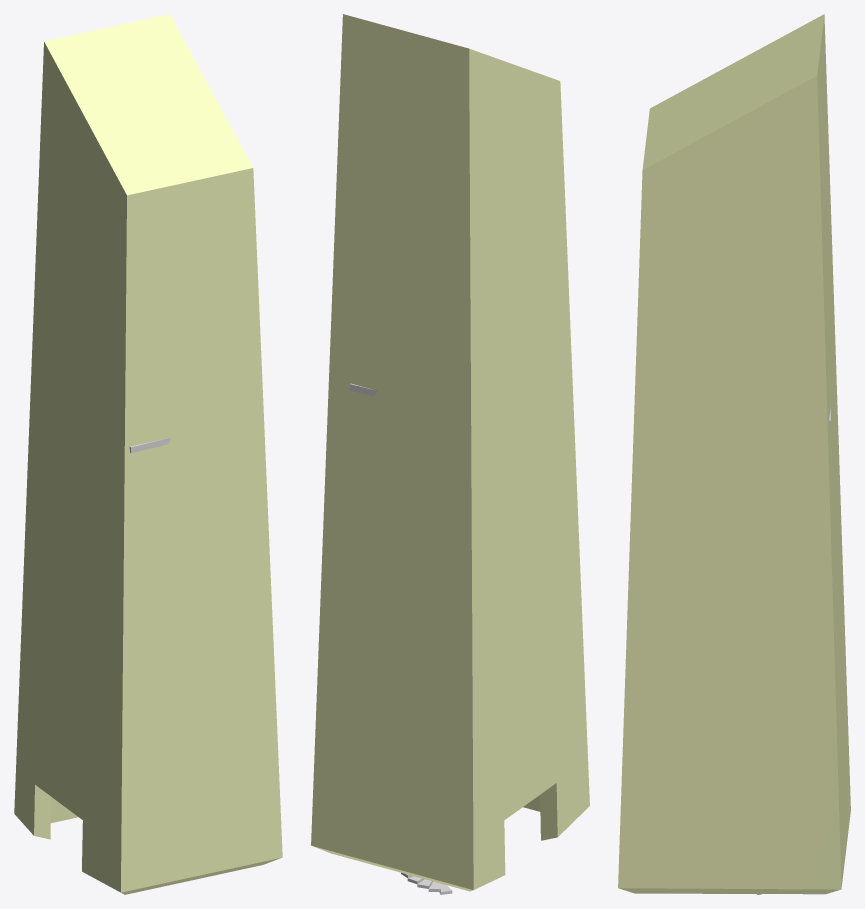
Rendered from stairstest.fbx.
3 views of the same model, side by side, from view 1: azimuth 30°, elevation 25°; view 2: azimuth 150°, elevation 25°; view 3: azimuth 270°, elevation 25° (orthographic). The views are drawn at different scales.
Parts seen in each view (by area): view 1: Cube_004; view 2: Cube_004; view 3: Cube_004.
Part boxes in pixels (<box>): Cube_004: <box>14,14,282,894</box>; Cube_004: <box>311,14,589,891</box>; Cube_004: <box>618,14,850,894</box>.
Bounding box in the file's own units: 4794 × 23013 × 5727.
